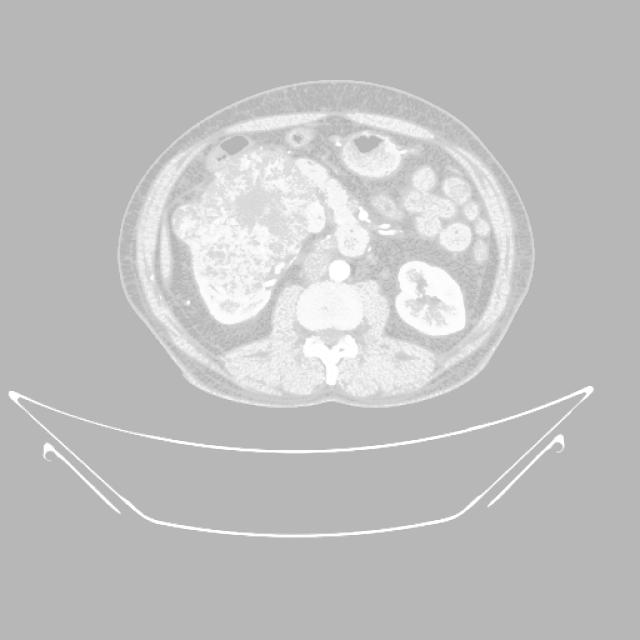TUMOR: (189, 159, 549, 345)
